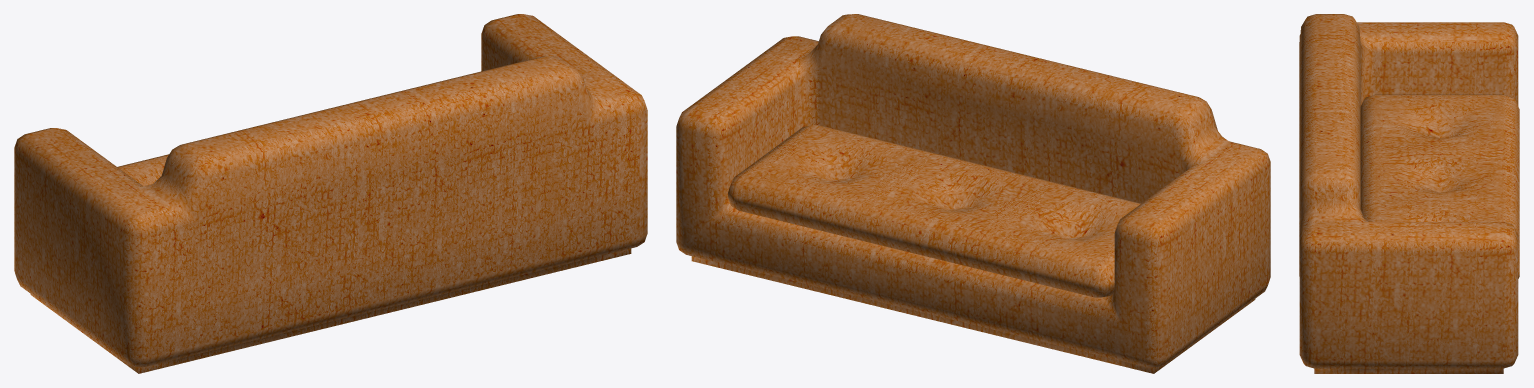
File: FUR0210032.fbx
The picture shows the model from 3 angles, left to right: view 1: azimuth 30°, elevation 25°; view 2: azimuth 150°, elevation 25°; view 3: azimuth 270°, elevation 25°; orthographic projection. The views are drawn at different scales.
Visible parts, largest first — view 1: smFUR0210032; view 2: smFUR0210032; view 3: smFUR0210032.
Boxes of the visible parts, <box> form: smFUR0210032: <box>14,14,647,373</box>; smFUR0210032: <box>676,14,1270,373</box>; smFUR0210032: <box>1299,14,1519,373</box>.
Size of the model in its own units: 270 by 99.38 by 113.
Materials: 1 (1 with a texture image).
